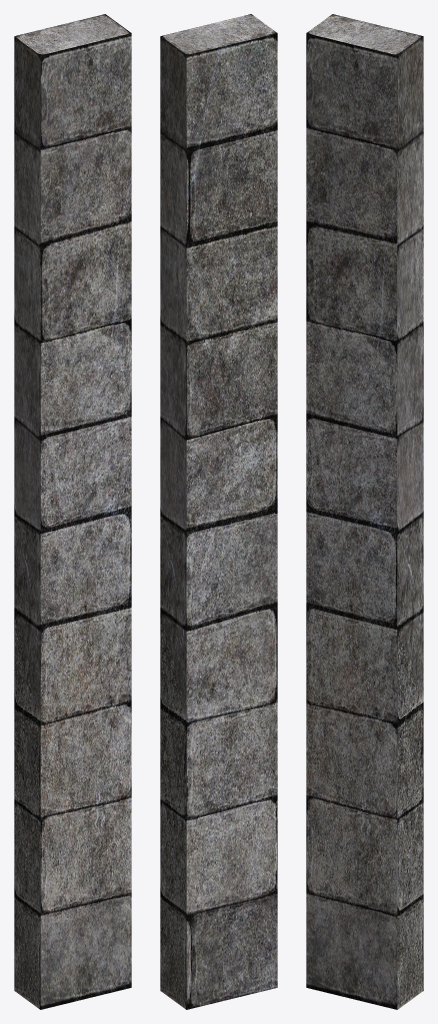
Rendered from brickPillar.obj.
3 views of the same model, side by side, from view 1: azimuth 30°, elevation 25°; view 2: azimuth 210°, elevation 25°; view 3: azimuth 330°, elevation 25° (orthographic).
Visible parts, largest first — view 1: Cube; view 2: Cube; view 3: Cube.
Part boxes in pixels (x1,y1,x2,y2): Cube: (14, 14, 131, 1009); Cube: (160, 14, 277, 1009); Cube: (306, 14, 423, 1009).
Bounding box in the file's own units: 2 × 20 × 1.
